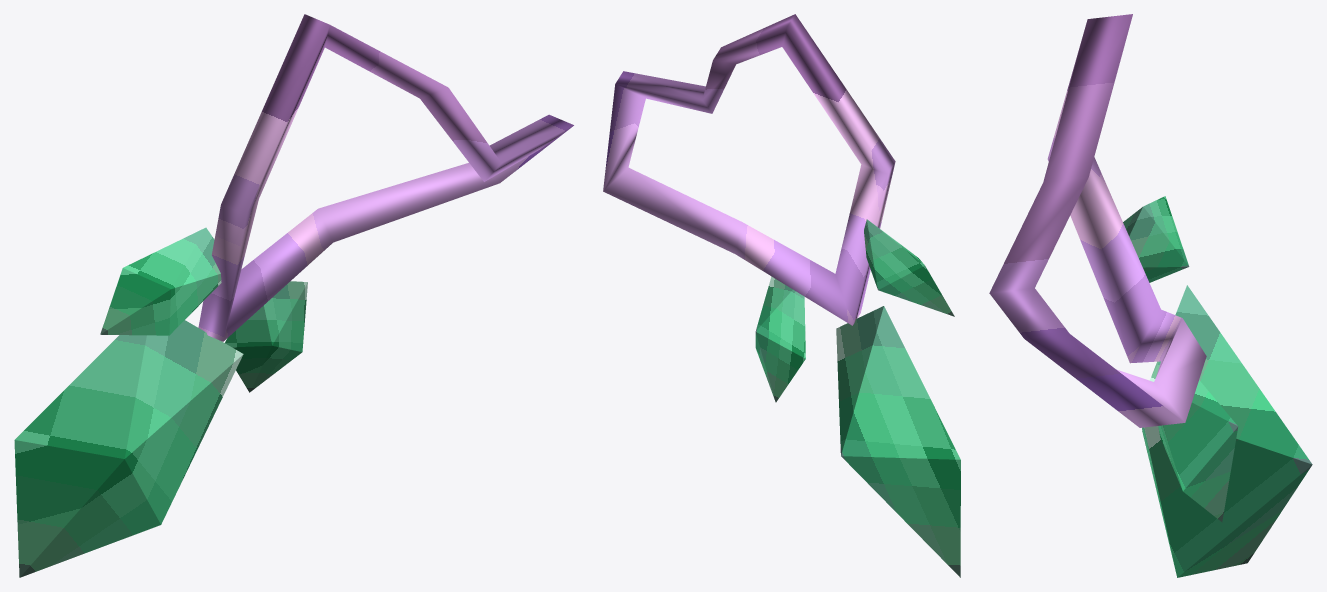
File: Necklace01.glb
The picture shows the model from 3 angles, left to right: view 1: azimuth 30°, elevation 25°; view 2: azimuth 150°, elevation 25°; view 3: azimuth 270°, elevation 25°; orthographic projection. The views are drawn at different scales.
Parts seen in each view (by area): view 1: model_Necklace01; view 2: model_Necklace01; view 3: model_Necklace01.
Boxes of the visible parts, x1,y1,x2,y2 form: model_Necklace01: (14, 14, 573, 577); model_Necklace01: (603, 14, 960, 577); model_Necklace01: (989, 14, 1312, 577).
Size of the model in its own units: 0.2554 by 0.2775 by 0.1156.
1 material, 1 textured.
